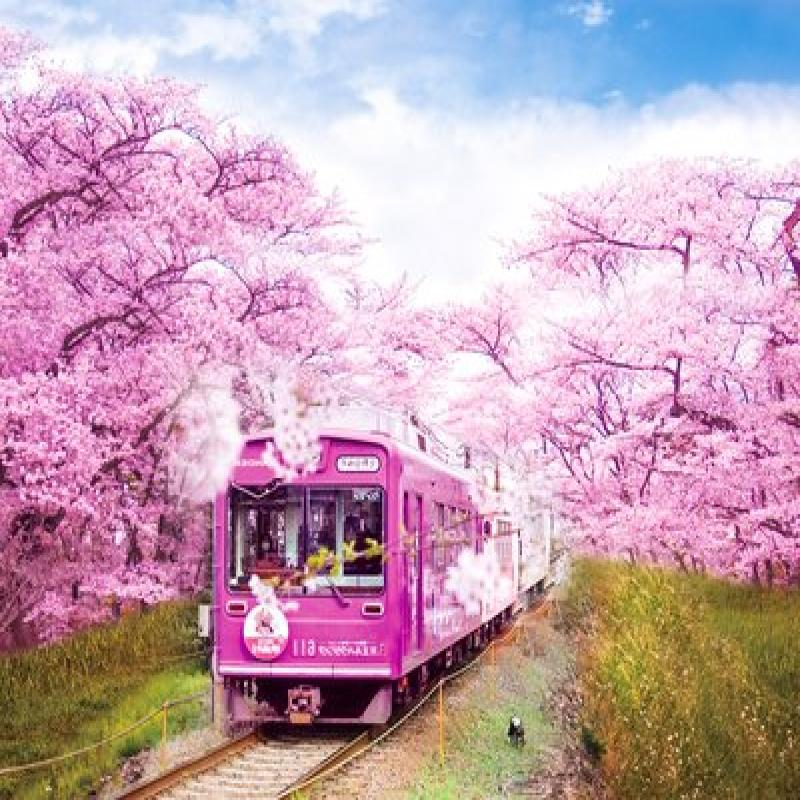train: (167, 400, 541, 743)
